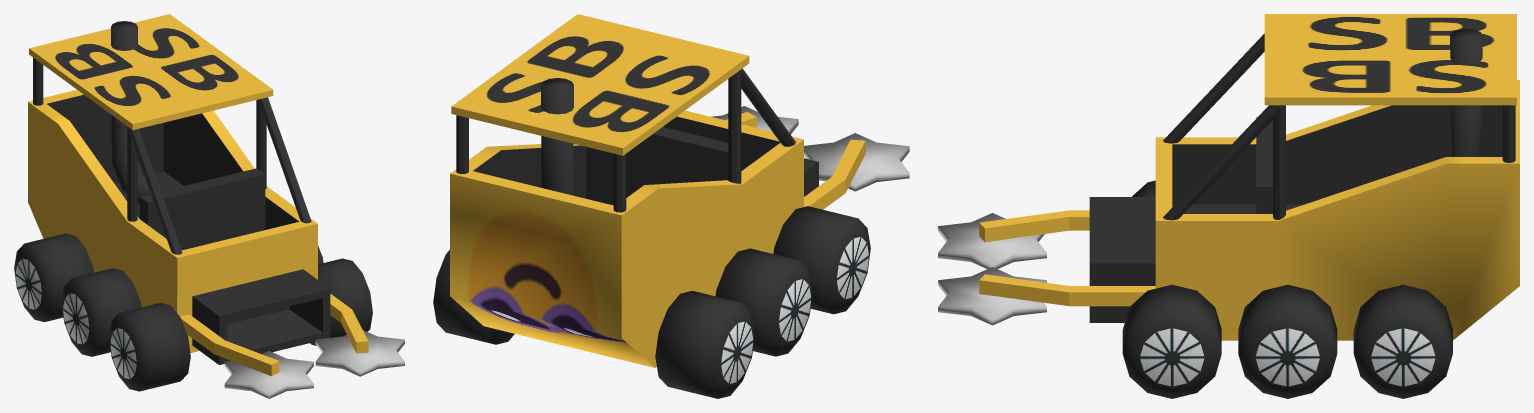
File: dozer3.fbx
3 renders of one model, left to right at view 1: azimuth 30°, elevation 25°; view 2: azimuth 150°, elevation 25°; view 3: azimuth 270°, elevation 25°, orthographic. The views are drawn at different scales.
Parts seen in each view (by area): view 1: Cube, Cube.001, polySurface6, Poles, polySurface4, polySurface5, Cube.002, polySurface7, polySurface3, polySurface8, chymney; view 2: Cube, Cube.001, polySurface5, polySurface6, polySurface4, Poles, polySurface8, chymney, polySurface2, Cube.002, polySurface7; view 3: Cube, Cube.001, polySurface1, polySurface2, polySurface3, Poles, Cube.002, polySurface8, polySurface7, chymney.
Part boxes in pixels (left/top/right/bottom): Cube: left=28, top=90, right=330, bottom=364; Cube.001: left=29, top=14, right=273, bottom=130; polySurface6: left=109, top=303, right=190, bottom=391; Poles: left=33, top=57, right=311, bottom=254; polySurface4: left=61, top=268, right=141, bottom=356; polySurface5: left=14, top=233, right=93, bottom=321; Cube.002: left=180, top=293, right=368, bottom=376; polySurface7: left=315, top=330, right=404, bottom=376; polySurface3: left=310, top=258, right=372, bottom=345; polySurface8: left=224, top=351, right=313, bottom=398; chymney: left=111, top=21, right=150, bottom=203; Cube: left=450, top=110, right=818, bottom=367; Cube.001: left=451, top=14, right=749, bottom=155; polySurface5: left=655, top=291, right=755, bottom=398; polySurface6: left=773, top=206, right=870, bottom=314; polySurface4: left=715, top=248, right=812, bottom=356; Poles: left=456, top=68, right=795, bottom=212; polySurface8: left=804, top=133, right=909, bottom=191; chymney: left=541, top=78, right=573, bottom=195; polySurface2: left=433, top=250, right=514, bottom=344; Cube.002: left=725, top=112, right=865, bottom=209; polySurface7: left=711, top=106, right=798, bottom=134; Cube: left=1089, top=80, right=1519, bottom=340; Cube.001: left=1264, top=14, right=1516, bottom=105; polySurface1: left=1238, top=284, right=1337, bottom=398; polySurface2: left=1353, top=284, right=1452, bottom=398; polySurface3: left=1122, top=284, right=1221, bottom=398; Poles: left=1163, top=33, right=1515, bottom=220; Cube.002: left=979, top=210, right=1155, bottom=306; polySurface8: left=938, top=213, right=1046, bottom=268; polySurface7: left=938, top=267, right=1046, bottom=325; chymney: left=1450, top=28, right=1482, bottom=156.
Size of the model in its own units: 1000 by 1001 by 1763.
